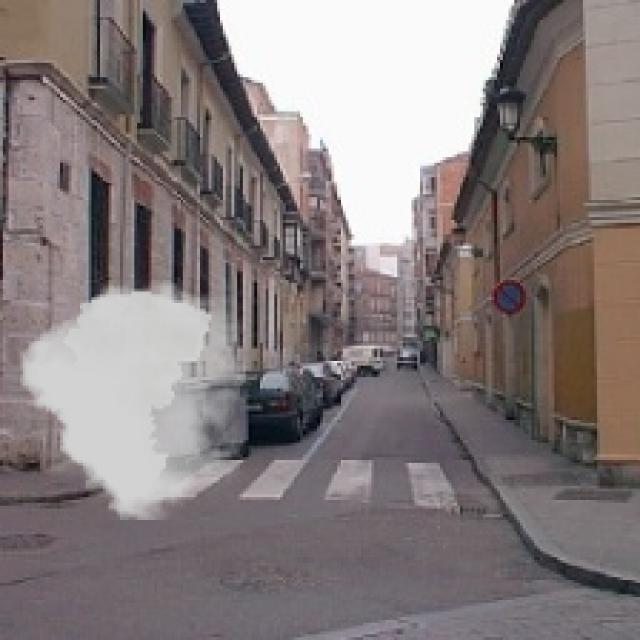smoke: (20, 280, 246, 520)
